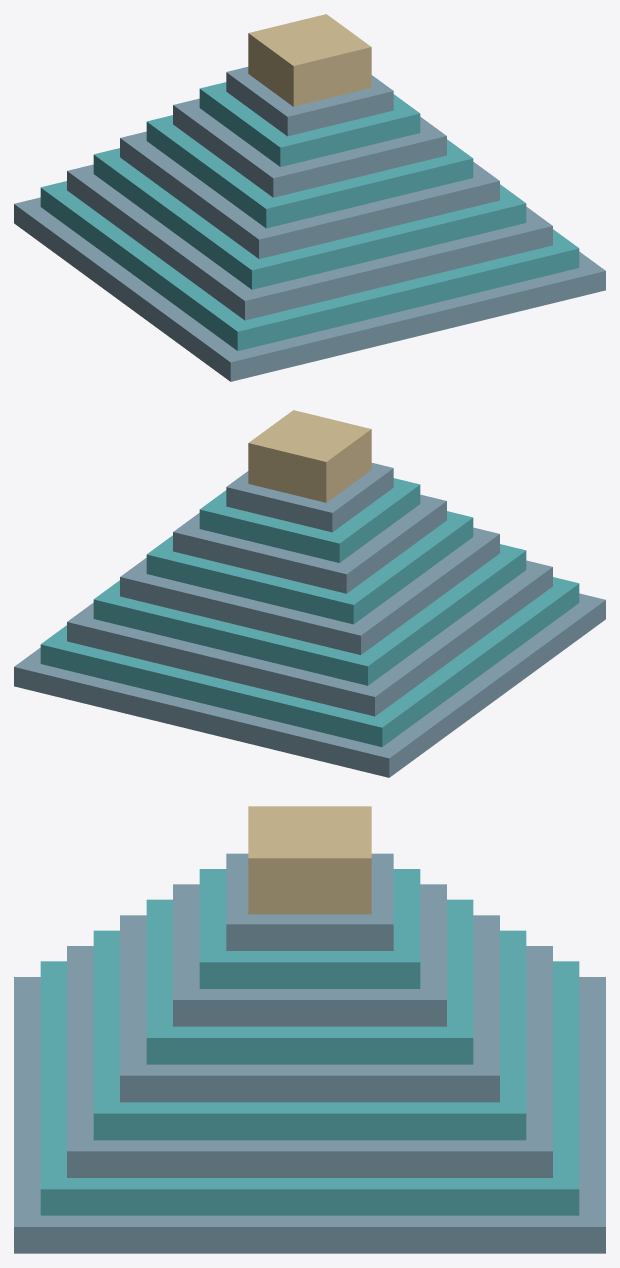
The model's file is chichen_9_terraces.glb.
The picture shows the model from 3 angles, top to bottom: view 1: azimuth 30°, elevation 25°; view 2: azimuth 150°, elevation 25°; view 3: azimuth 270°, elevation 25°; orthographic projection. The views are drawn at different scales.
Visible parts, largest first — view 1: level_01, level_02, level_03, level_04, level_05, level_06, level_07, top_small_temple_ideal, level_08, level_09; view 2: level_01, level_02, level_03, level_04, level_05, level_06, level_07, top_small_temple_ideal, level_08, level_09; view 3: level_01, level_02, level_03, level_04, level_05, level_06, level_07, top_small_temple_ideal, level_08, level_09.
Boxes of the visible parts, x1,y1,x2,y2 form: level_01: [14, 197, 605, 381]; level_02: [40, 181, 579, 350]; level_03: [67, 164, 552, 320]; level_04: [93, 148, 526, 289]; level_05: [120, 131, 499, 258]; level_06: [146, 115, 473, 228]; level_07: [173, 98, 446, 197]; top_small_temple_ideal: [248, 14, 371, 106]; level_08: [199, 82, 420, 166]; level_09: [226, 67, 393, 136]; level_01: [14, 593, 605, 777]; level_02: [40, 577, 579, 746]; level_03: [67, 560, 552, 716]; level_04: [93, 544, 526, 685]; level_05: [120, 527, 499, 654]; level_06: [146, 511, 473, 624]; level_07: [173, 494, 446, 593]; top_small_temple_ideal: [248, 410, 371, 502]; level_08: [199, 478, 420, 562]; level_09: [226, 463, 393, 532]; level_01: [14, 977, 605, 1253]; level_02: [40, 961, 579, 1215]; level_03: [67, 946, 552, 1177]; level_04: [93, 930, 526, 1140]; level_05: [120, 915, 499, 1102]; level_06: [146, 899, 473, 1064]; level_07: [173, 884, 446, 1026]; top_small_temple_ideal: [248, 806, 371, 914]; level_08: [199, 869, 420, 988]; level_09: [226, 853, 393, 950].
Bounding box in the file's own units: 12.5 × 6.9 × 12.5.
